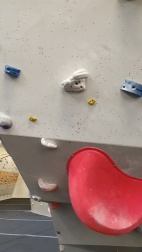Jug: (61, 69, 89, 92), (36, 176, 58, 193), (40, 137, 59, 150)
Pinch: (119, 77, 141, 95), (4, 63, 23, 79)
